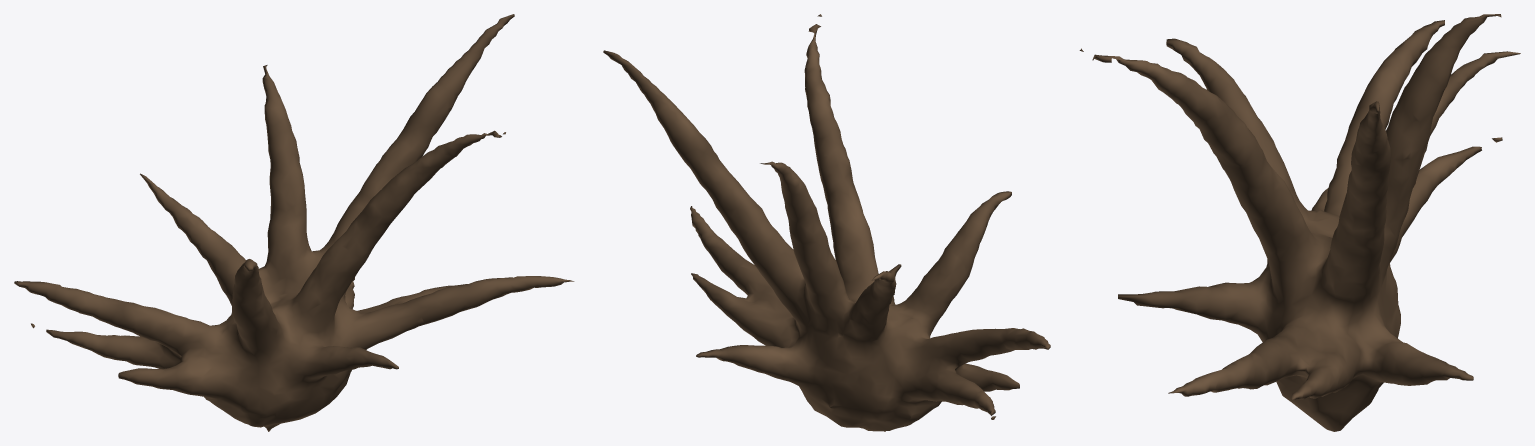
Rendered from root-desktop.glb.
3 renders of one model, left to right at view 1: azimuth 30°, elevation 25°; view 2: azimuth 150°, elevation 25°; view 3: azimuth 270°, elevation 25°, orthographic. The views are drawn at different scales.
Visible parts, largest first — view 1: root; view 2: root; view 3: root.
Part boxes in pixels (left/top/right/bottom): root: left=14, top=14, right=574, bottom=431; root: left=603, top=14, right=1050, bottom=431; root: left=1079, top=14, right=1520, bottom=431.
Size of the model in its own units: 1.4 by 0.9502 by 0.8003.
